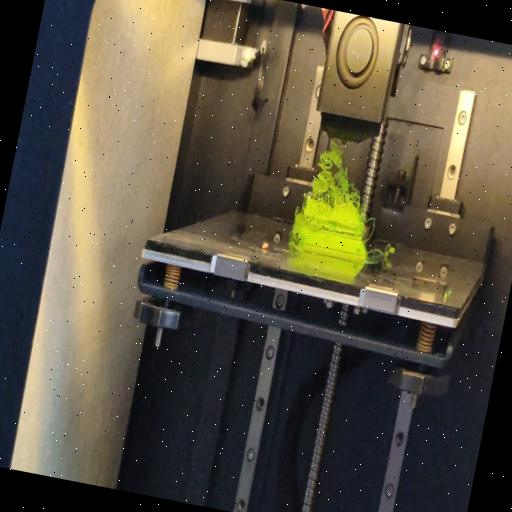spaghetti: (300, 136, 376, 214), (366, 242, 396, 267), (358, 211, 378, 246), (288, 237, 298, 247)
